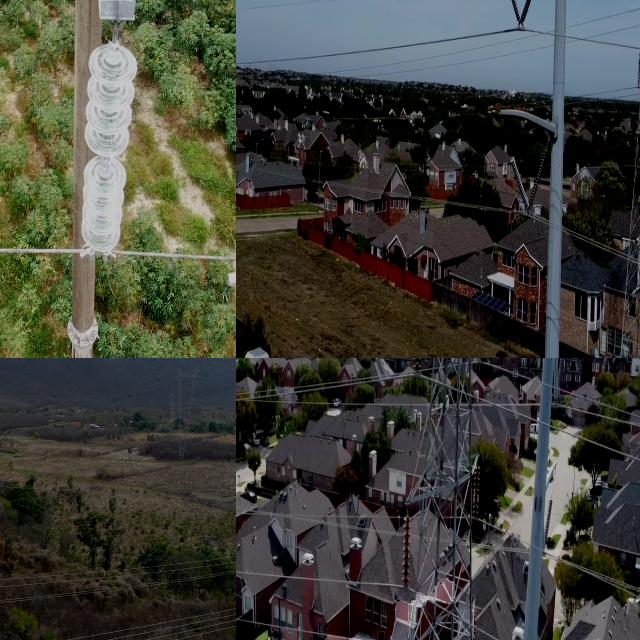杆塔: (48, 0, 155, 358), (394, 358, 480, 640), (607, 0, 640, 358)
正常电缆: (498, 521, 640, 607), (484, 392, 640, 466), (496, 358, 640, 426), (236, 483, 389, 535), (236, 561, 387, 598), (236, 604, 388, 640)
正常绝缘子: (76, 30, 140, 280), (518, 142, 554, 232), (504, 140, 537, 226), (399, 504, 412, 597), (511, 0, 535, 42), (470, 456, 481, 525), (507, 0, 526, 36), (410, 358, 425, 381), (634, 53, 640, 90), (470, 609, 476, 640)
绝缘子破损: (95, 157, 113, 165)
